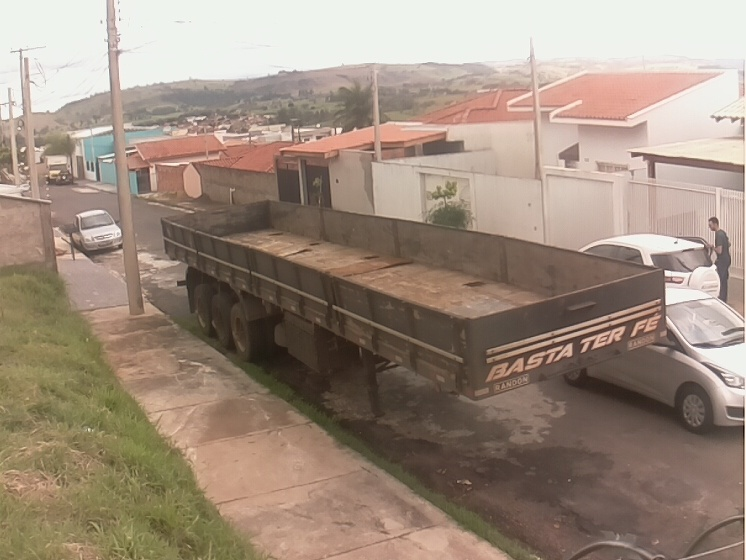person: (705, 215, 734, 301)
